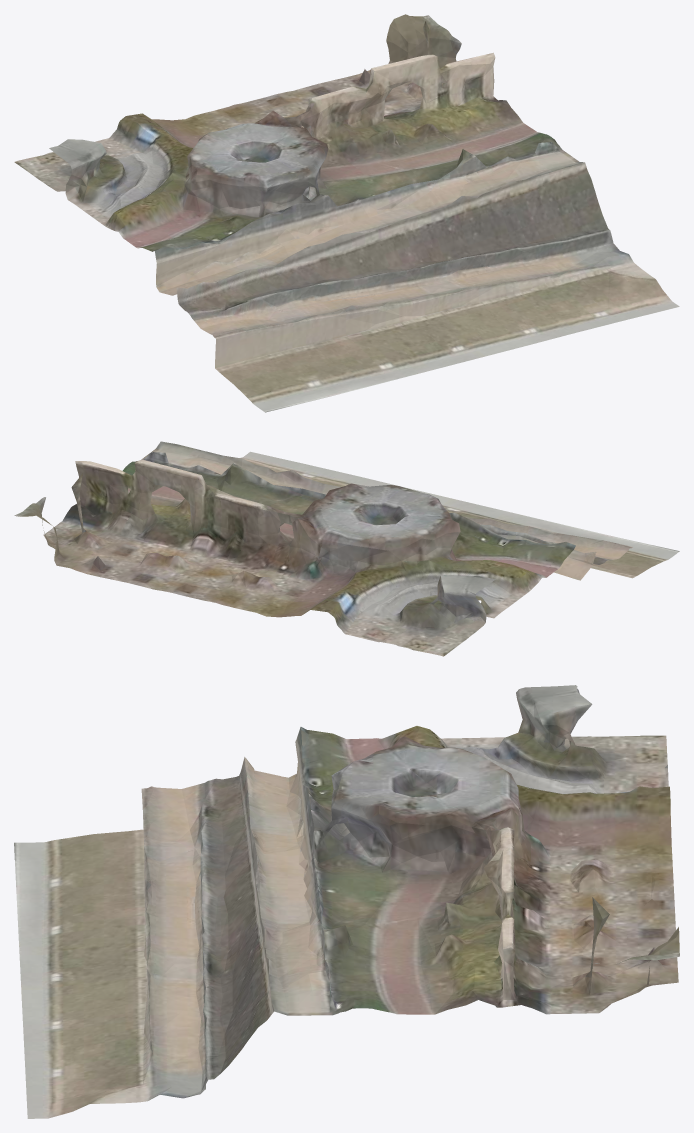
The model's file is Tile_+012_+008_L20_000001220.glb.
The picture shows the model from 3 angles, top to bottom: view 1: azimuth 30°, elevation 25°; view 2: azimuth 150°, elevation 25°; view 3: azimuth 270°, elevation 25°; orthographic projection. The views are drawn at different scales.
Visible parts, largest first — view 1: rtc; view 2: rtc; view 3: rtc.
Boxes of the visible parts, bbox=[...] form: rtc: bbox=[14, 14, 679, 412]; rtc: bbox=[14, 441, 679, 656]; rtc: bbox=[14, 685, 679, 1118].
Size of the model in its own units: 32.13 by 10.29 by 32.13.
1 material, 1 textured.
